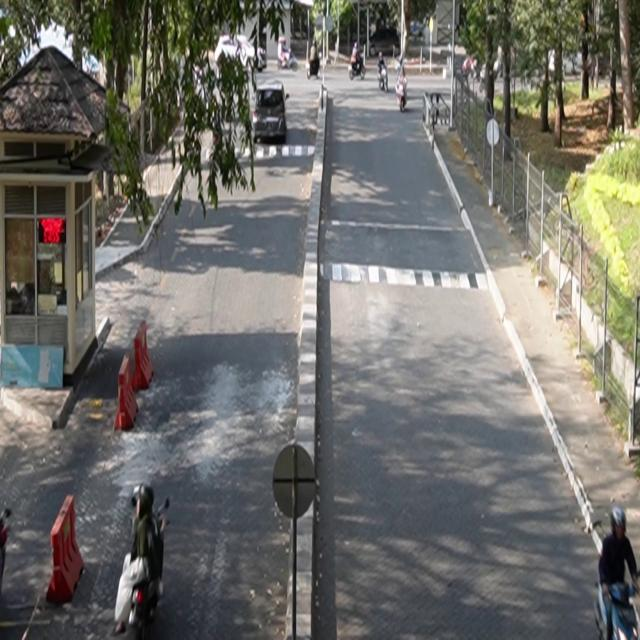car: (253, 81, 291, 144)
